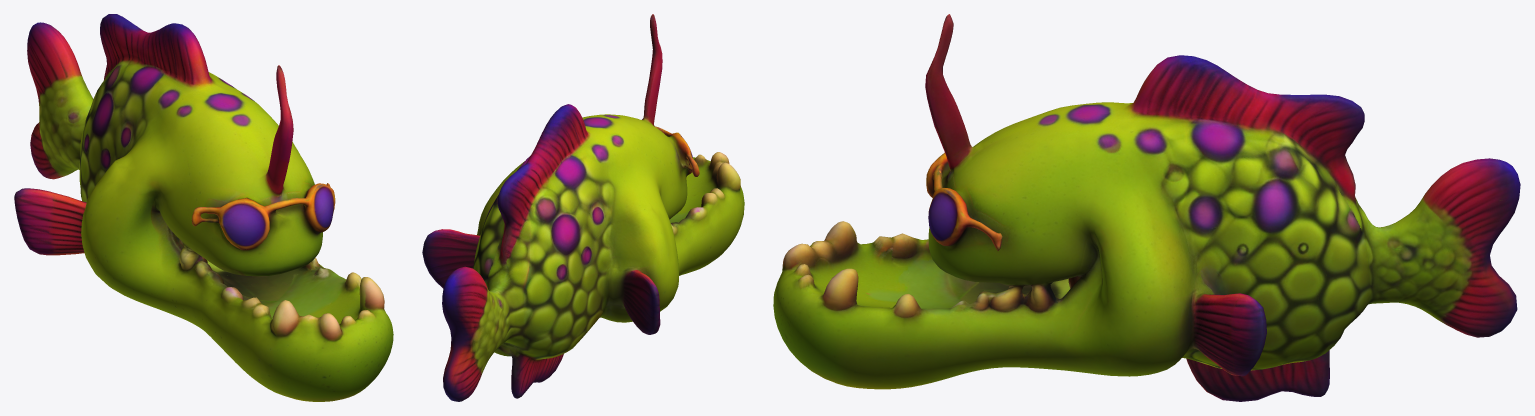
Rendered from reef-fish.glb.
The picture shows the model from 3 angles, left to right: view 1: azimuth 30°, elevation 25°; view 2: azimuth 150°, elevation 25°; view 3: azimuth 270°, elevation 25°; orthographic projection. The views are drawn at different scales.
Bounding box in the file's own units: 0.9807 × 1.14 × 2.
Materials: 1 (1 with a texture image).
